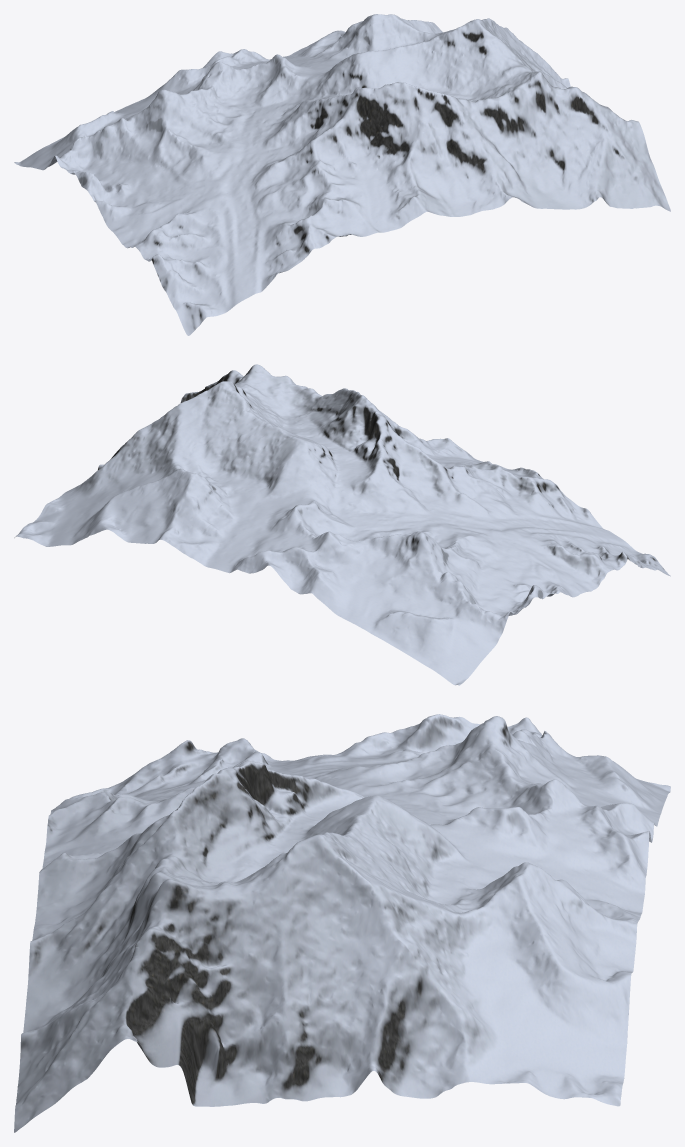
The model's file is mountain-light-baked.glb.
3 renders of one model, top to bottom at view 1: azimuth 30°, elevation 25°; view 2: azimuth 150°, elevation 25°; view 3: azimuth 270°, elevation 25°, orthographic. The views are drawn at different scales.
Parts seen in each view (by area): view 1: No sub.001; view 2: No sub.001; view 3: No sub.001.
Boxes of the visible parts, x1=… form: No sub.001: x1=14, y1=14, x2=670, y2=335; No sub.001: x1=14, y1=364, x2=670, y2=685; No sub.001: x1=14, y1=714, x2=670, y2=1132.
Size of the model in its own units: 22.6 by 7.36 by 16.9.
Materials: 1 (1 with a texture image).
